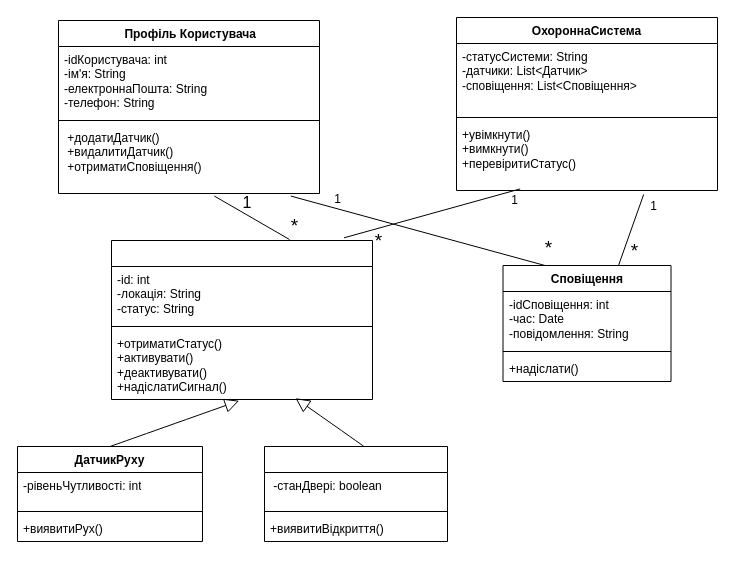
This 735x562 diagram has some shape labels left out. The shapes that lost their labels are listed below. From the top down, each one's box as (x1, y1, x2, y2) in pixels, then its label:
(110, 240, 372, 400): Датчик
(264, 446, 448, 542): ДвернийДатчик
